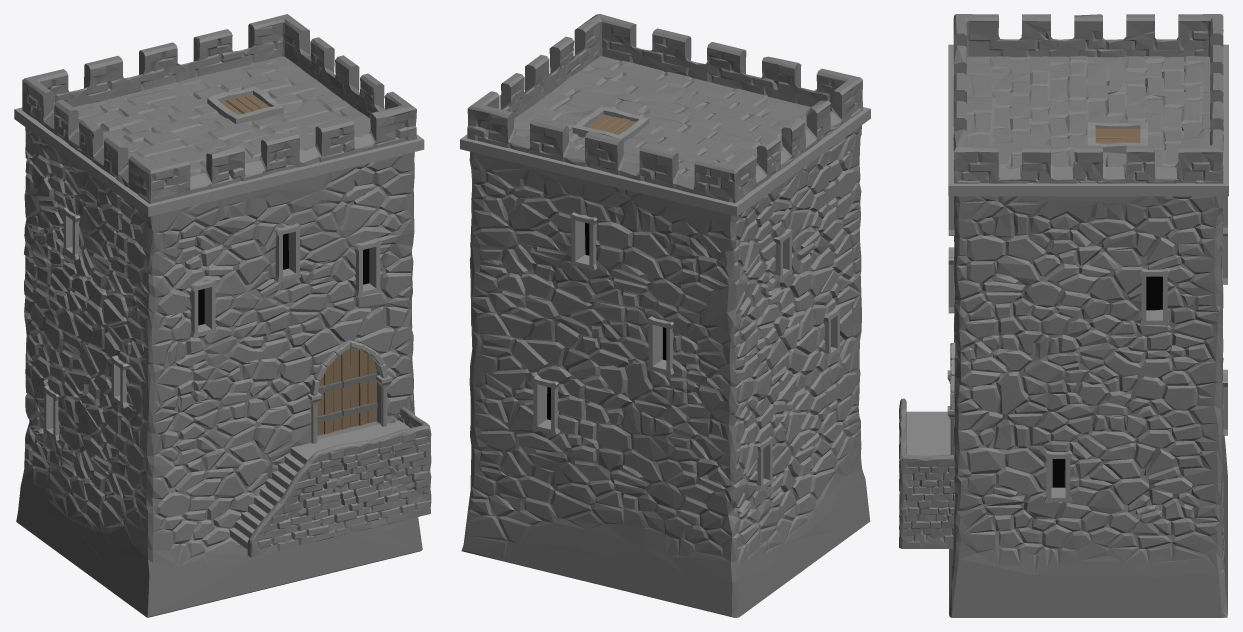
Rendered from castle_keep_b.FBX.
3 renders of one model, left to right at view 1: azimuth 30°, elevation 25°; view 2: azimuth 150°, elevation 25°; view 3: azimuth 270°, elevation 25°, orthographic. The views are drawn at different scales.
Parts seen in each view (by area): view 1: castle_keep_b; view 2: castle_keep_b; view 3: castle_keep_b.
Boxes of the visible parts, x1,y1,x2,y2 form: castle_keep_b: [14, 14, 431, 617]; castle_keep_b: [460, 14, 870, 617]; castle_keep_b: [899, 14, 1228, 617].
Bounding box in the file's own units: 12.41 × 19.05 × 12.22.
